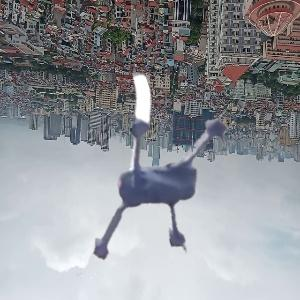drone: (44, 49, 272, 277)
